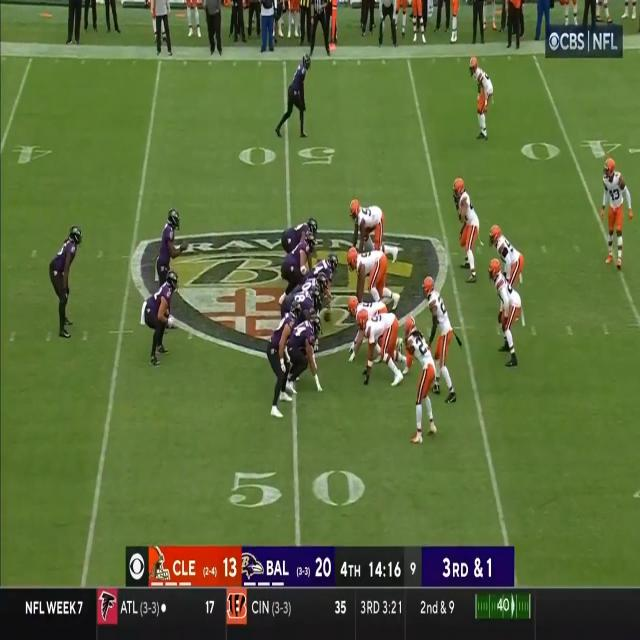players: (270, 304, 322, 419), (412, 325, 450, 449), (422, 280, 460, 401), (51, 226, 87, 341), (274, 50, 316, 140), (360, 310, 406, 389), (601, 162, 633, 274), (489, 264, 523, 367), (346, 250, 401, 313), (147, 270, 181, 367), (346, 202, 394, 268), (452, 180, 482, 284), (491, 228, 524, 318), (302, 254, 340, 331), (350, 298, 397, 358), (278, 231, 318, 301), (468, 53, 497, 148), (156, 202, 180, 315), (284, 213, 319, 271)
